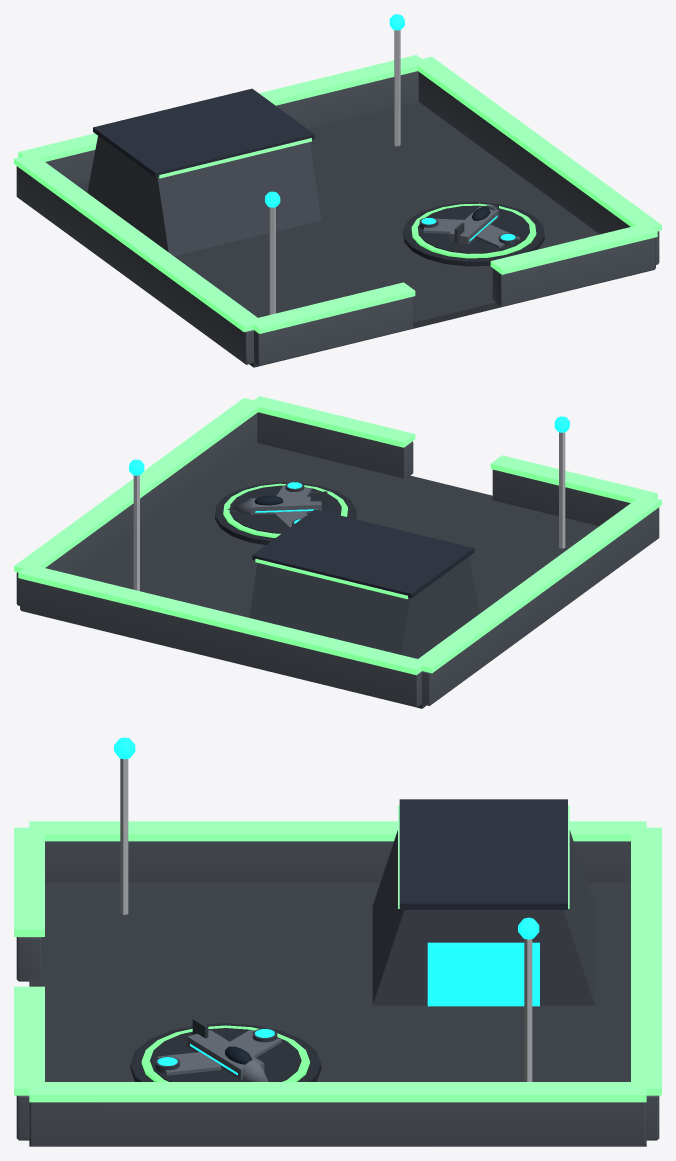
File: military_base_scifi_green.glb
3 renders of one model, top to bottom at view 1: azimuth 30°, elevation 25°; view 2: azimuth 150°, elevation 25°; view 3: azimuth 270°, elevation 25°, orthographic. The views are drawn at different scales.
Parts seen in each view (by area): view 1: military_base_scifi_green; view 2: military_base_scifi_green; view 3: military_base_scifi_green.
Boxes of the visible parts, <box> form: military_base_scifi_green: <box>14,14,661,367</box>; military_base_scifi_green: <box>14,396,661,708</box>; military_base_scifi_green: <box>14,737,661,1146</box>.
Size of the model in its own units: 1.16 by 0.36 by 1.16.
5 materials, 1 textured.
